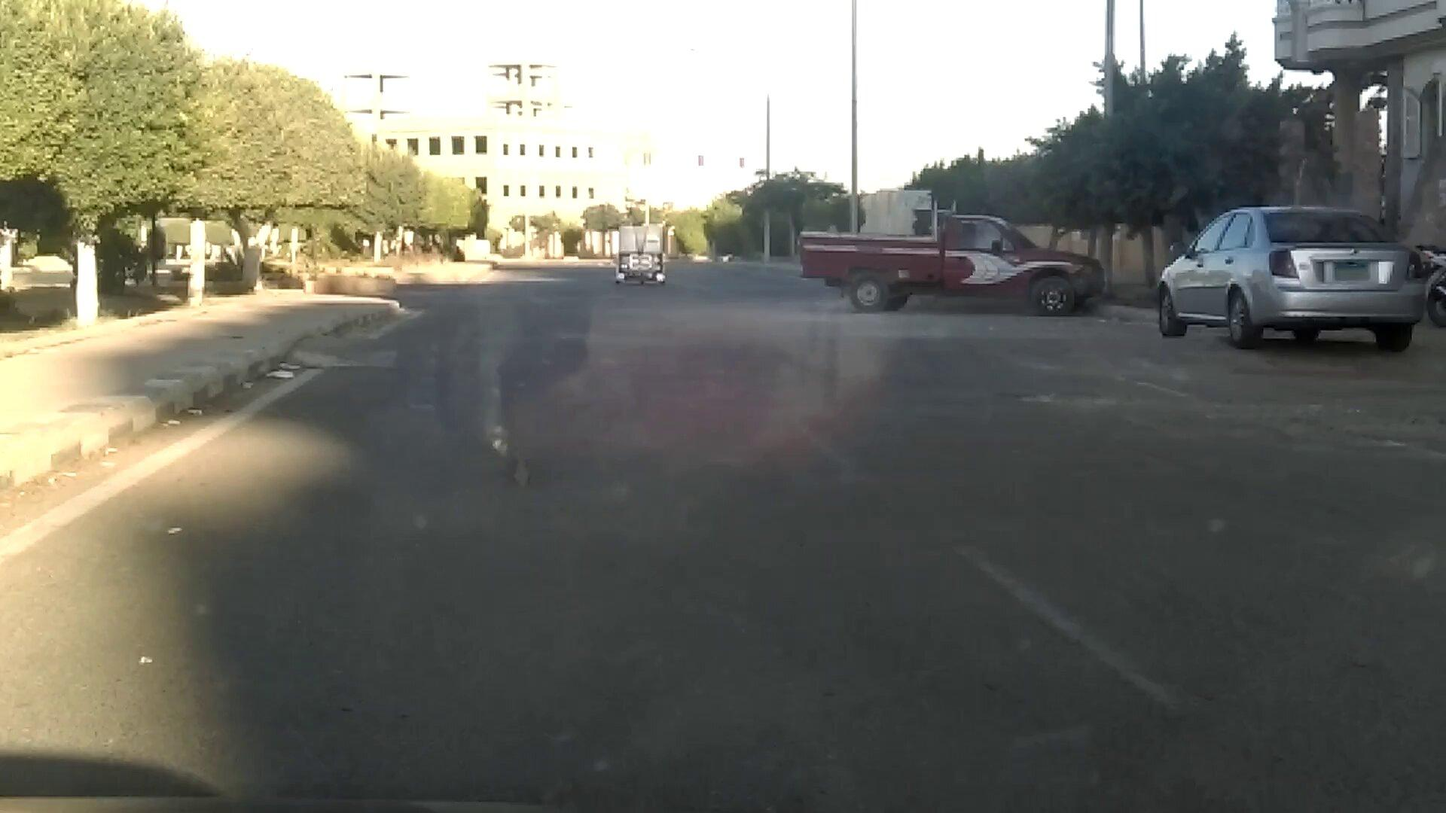Pothole: (1011, 388, 1150, 429)
